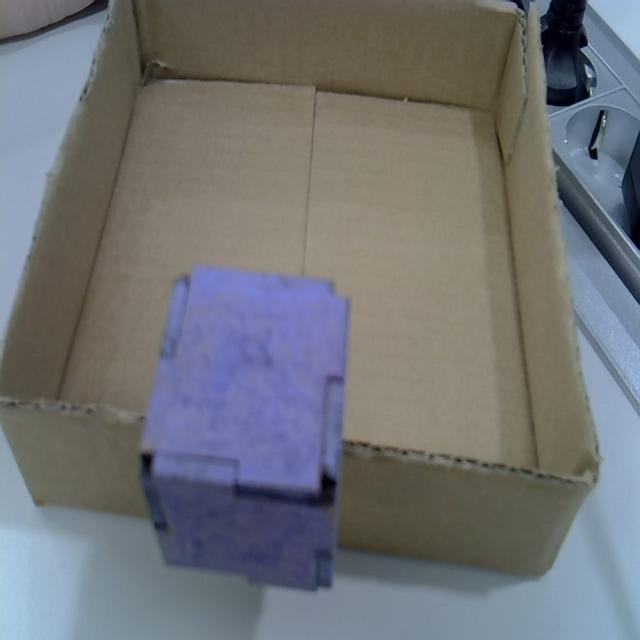purple_box: (142, 270, 351, 594)
